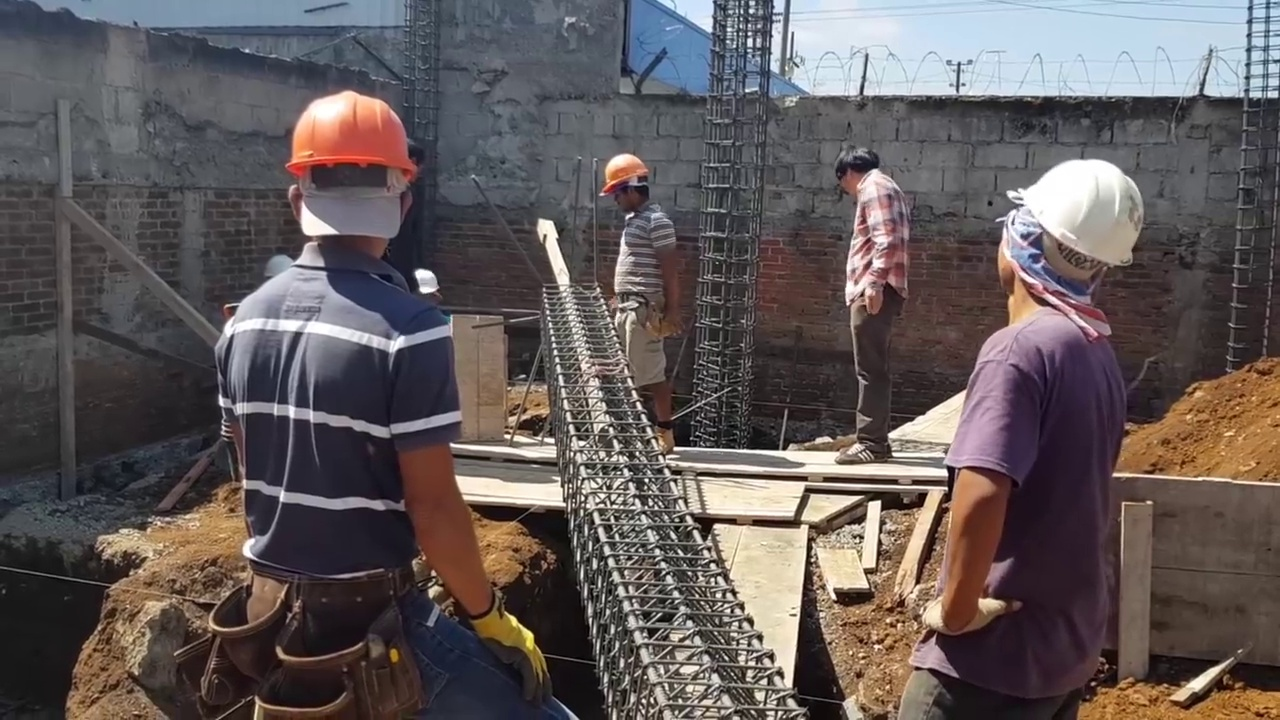helmet: (1018, 154, 1149, 273), (275, 88, 417, 182), (601, 156, 647, 200)
helmet-off: (837, 142, 884, 195)
helmet-on: (273, 69, 421, 264), (994, 142, 1141, 338), (596, 142, 658, 221)
person: (210, 74, 530, 720), (907, 152, 1146, 720), (597, 146, 688, 458), (837, 133, 915, 493)
